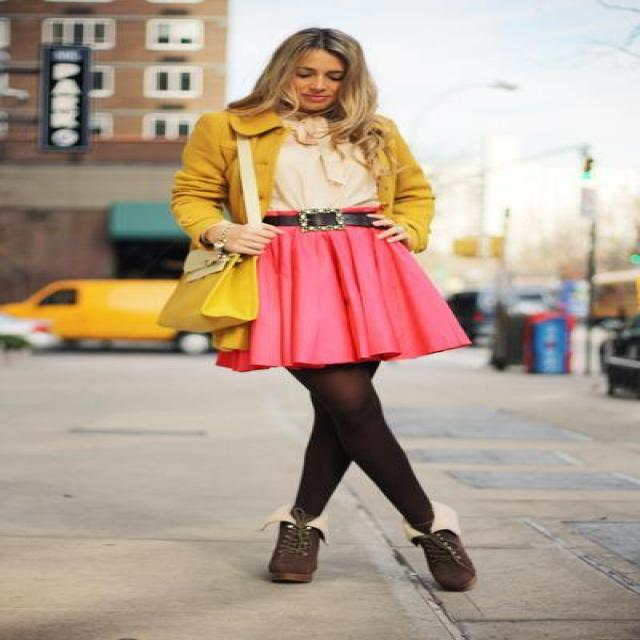bag: (134, 141, 286, 344)
jacket: (171, 110, 434, 268)
shirt: (275, 118, 379, 212)
shoe: (266, 502, 474, 591)
skirt: (250, 219, 468, 369)
